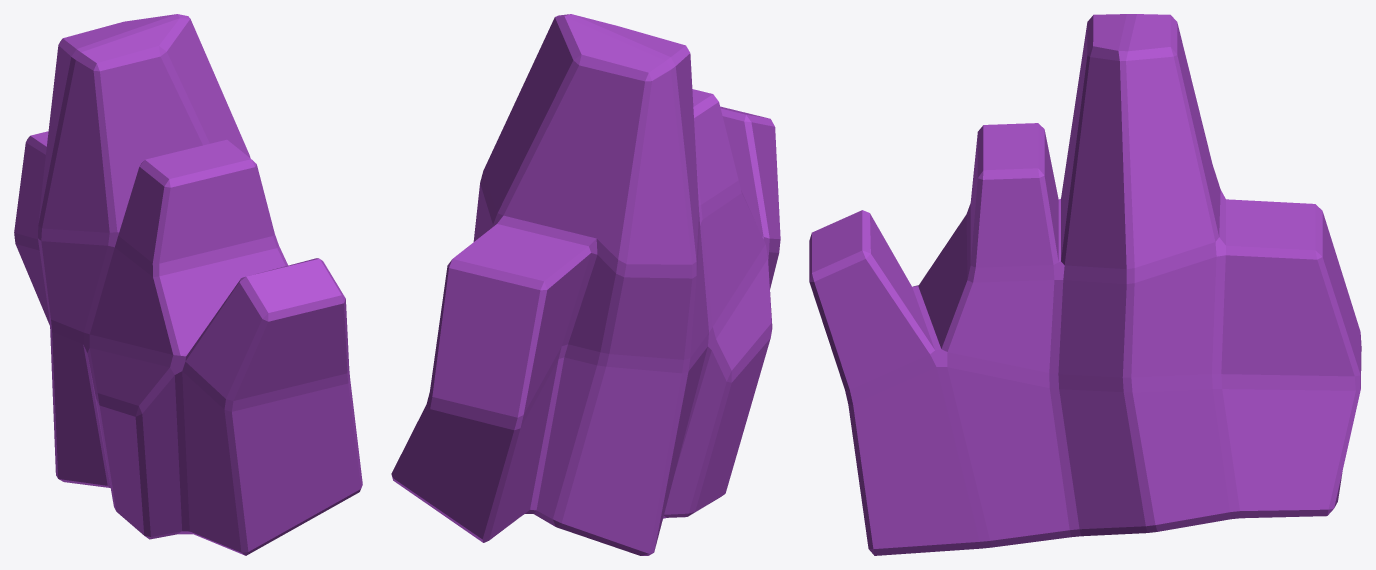
Rendered from Factory_Stone_1.fbx.
The picture shows the model from 3 angles, left to right: view 1: azimuth 30°, elevation 25°; view 2: azimuth 150°, elevation 25°; view 3: azimuth 270°, elevation 25°; orthographic projection. The views are drawn at different scales.
Parts seen in each view (by area): view 1: Factory Stone 1; view 2: Factory Stone 1; view 3: Factory Stone 1.
Boxes of the visible parts, x1,y1,x2,y2 form: Factory Stone 1: [14, 14, 362, 555]; Factory Stone 1: [391, 14, 780, 555]; Factory Stone 1: [809, 14, 1361, 555].
Size of the model in its own units: 1714 by 3451 by 3308.
